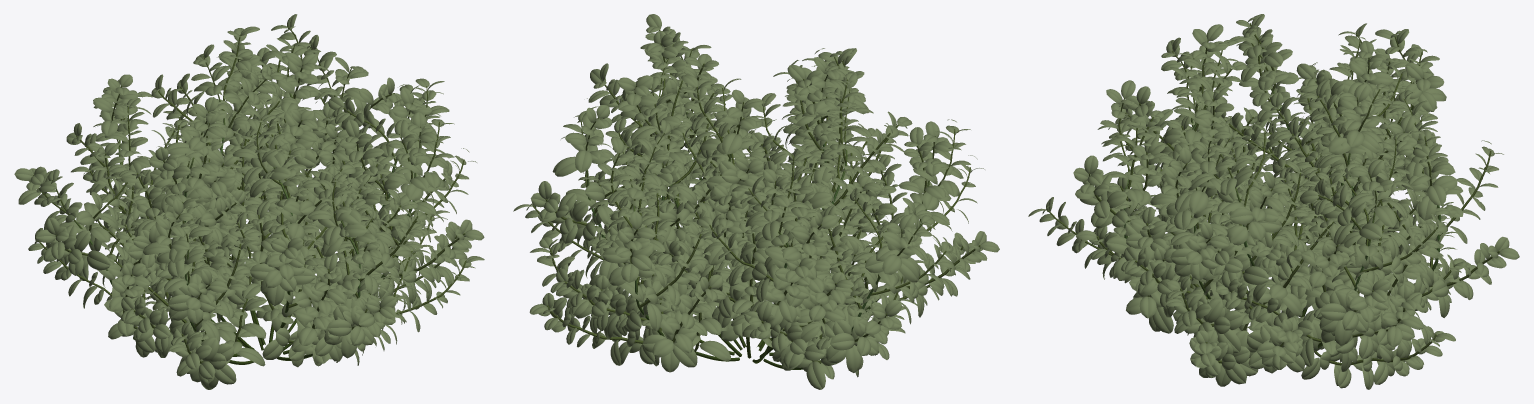
The model's file is Ficus_Microcarpa.glb.
3 renders of one model, left to right at view 1: azimuth 30°, elevation 25°; view 2: azimuth 150°, elevation 25°; view 3: azimuth 270°, elevation 25°, orthographic. The views are drawn at different scales.
Visible parts, largest first — view 1: AM_154_023_Ficus_Microcarpa; view 2: AM_154_023_Ficus_Microcarpa; view 3: AM_154_023_Ficus_Microcarpa.
Boxes of the visible parts, x1=… form: AM_154_023_Ficus_Microcarpa: x1=14, y1=14, x2=484, y2=389; AM_154_023_Ficus_Microcarpa: x1=513, y1=14, x2=999, y2=389; AM_154_023_Ficus_Microcarpa: x1=1028, y1=14, x2=1519, y2=389.
Bounding box in the file's own units: 0.7783 × 0.5552 × 0.7939.
Materials: 2 (2 with a texture image).
